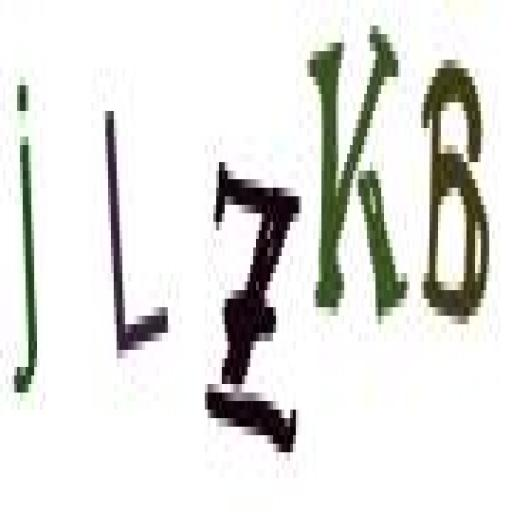B: (422, 40, 500, 344)
K: (304, 15, 409, 333)
L: (96, 84, 173, 376)
Z: (201, 136, 306, 481)
j: (0, 51, 44, 430)
